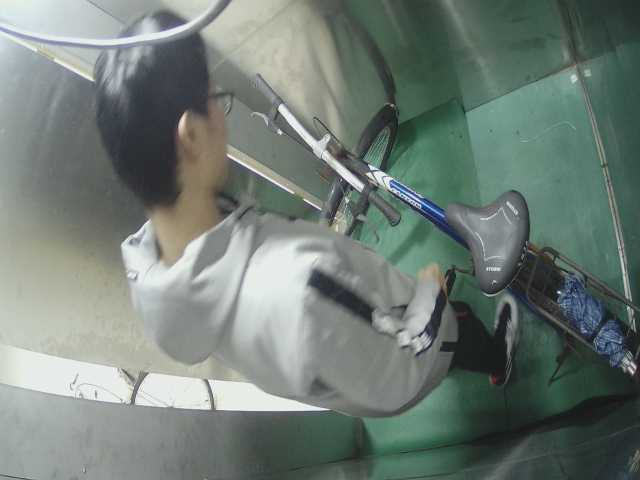bicycle: (249, 69, 640, 381)
person: (95, 17, 527, 418)
